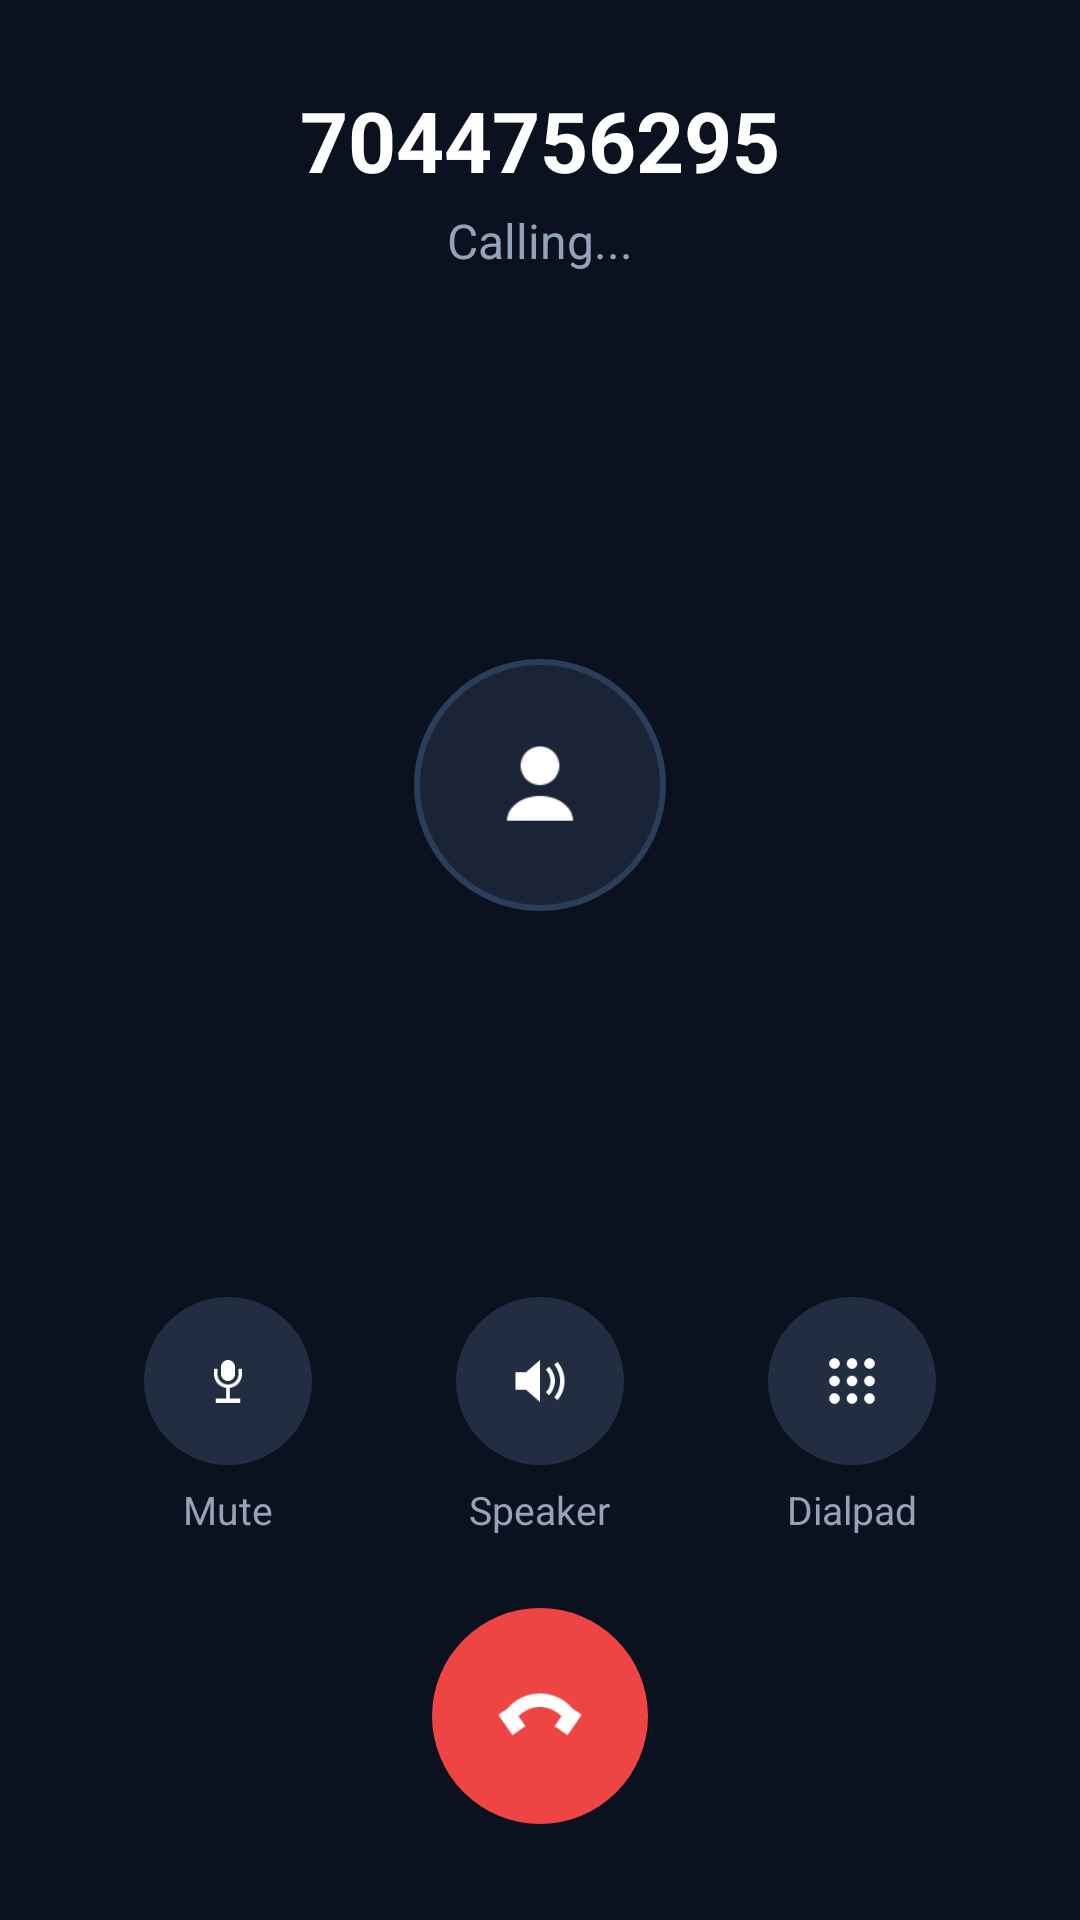

Point at icon controls on the screen. Image size 1080 × 1920, points as point (x, y).
End Call: point (540, 1716)
